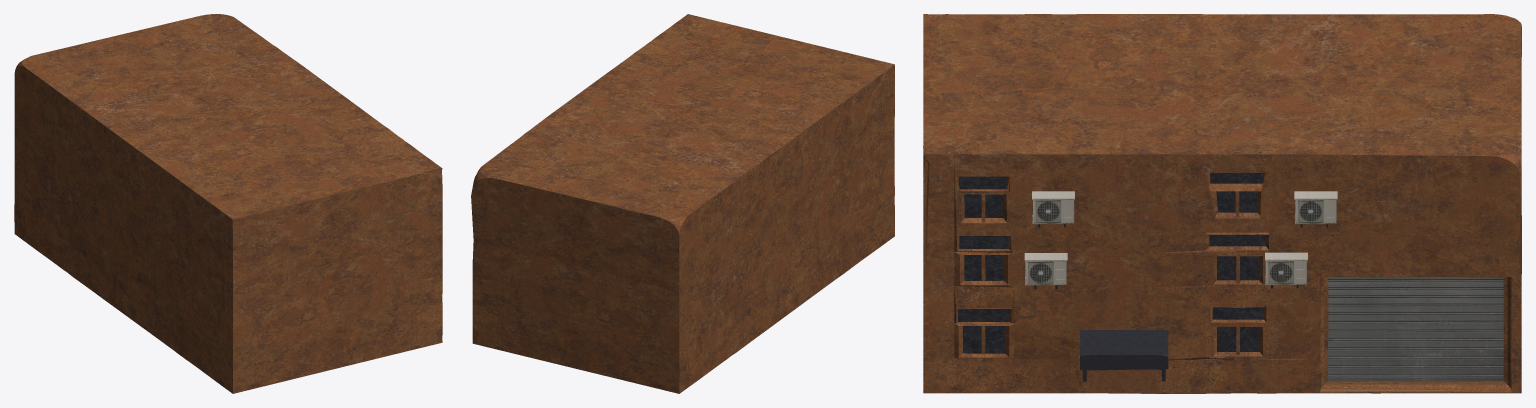
Rendered from apartment.glb.
3 views of the same model, side by side, from view 1: azimuth 30°, elevation 25°; view 2: azimuth 150°, elevation 25°; view 3: azimuth 270°, elevation 25° (orthographic). The views are drawn at different scales.
Visible parts, largest first — view 1: Apartment; view 2: Apartment; view 3: Apartment, roof, air conditioner3, air conditioner2, air conditioner1, air conditioner4.
Boxes of the visible parts, x1,y1,x2,y2 form: Apartment: [14, 14, 442, 393]; Apartment: [471, 14, 894, 393]; Apartment: [923, 14, 1521, 393]; roof: [1080, 330, 1168, 370]; air conditioner3: [1032, 191, 1074, 224]; air conditioner2: [1294, 191, 1337, 224]; air conditioner1: [1265, 252, 1307, 285]; air conditioner4: [1024, 253, 1067, 285].
Bounding box in the file's own units: 35.39 × 23.84 × 54.08.
Materials: 5 (5 with a texture image).
